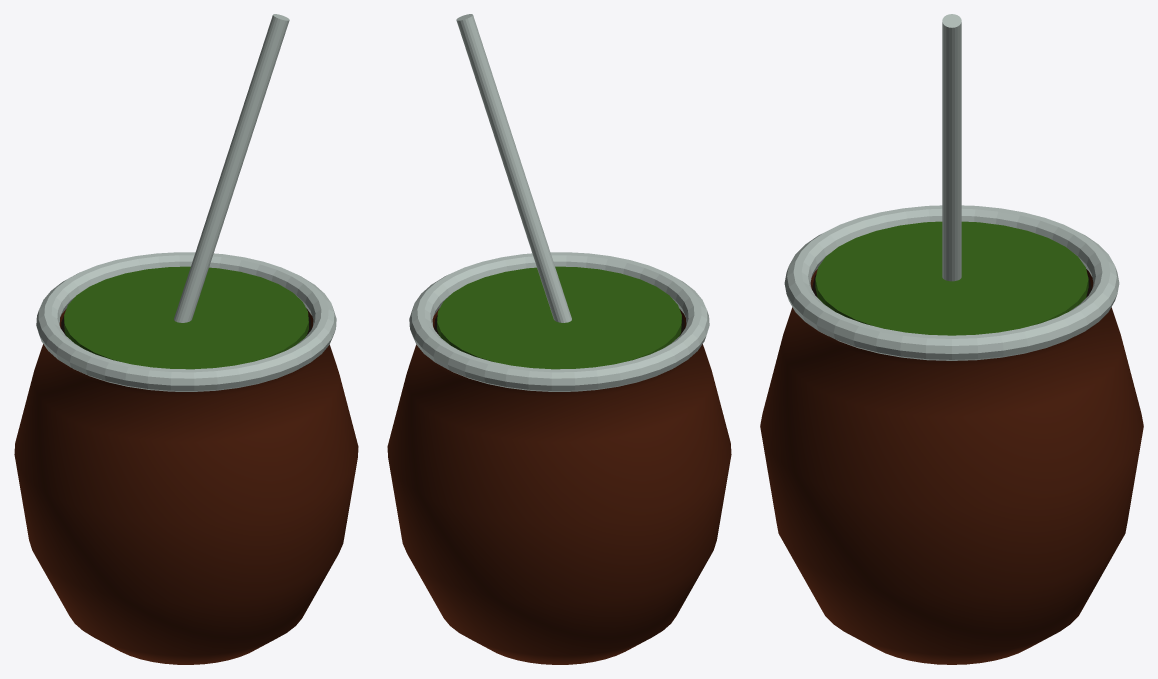
The model's file is MateConYerba3D.fbx.
The picture shows the model from 3 angles, left to right: view 1: azimuth 30°, elevation 25°; view 2: azimuth 150°, elevation 25°; view 3: azimuth 270°, elevation 25°; orthographic projection. The views are drawn at different scales.
Parts seen in each view (by area): view 1: MateConYerba3D; view 2: MateConYerba3D; view 3: MateConYerba3D.
Boxes of the visible parts, x1=… form: MateConYerba3D: x1=14, y1=14, x2=358, y2=664; MateConYerba3D: x1=387, y1=14, x2=731, y2=664; MateConYerba3D: x1=760, y1=14, x2=1143, y2=664.
Size of the model in its own units: 23.6 by 44.71 by 23.6.
